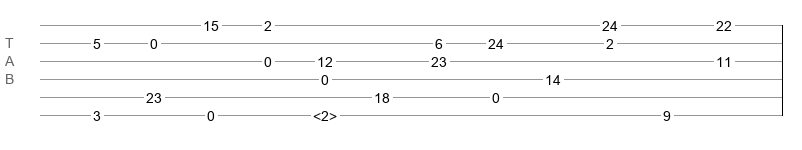0: (150, 36, 158, 46), (207, 108, 215, 118), (264, 54, 272, 64), (321, 72, 329, 82), (492, 90, 500, 100)
11: (716, 54, 732, 64)
12: (317, 54, 333, 64)
14: (545, 72, 561, 82)
15: (203, 18, 219, 28)
18: (374, 90, 390, 100)
2: (264, 18, 272, 28), (606, 36, 614, 46)
22: (716, 18, 732, 28)
23: (146, 90, 162, 100), (431, 54, 447, 64)
24: (488, 36, 504, 46), (602, 18, 618, 28)
3: (93, 108, 101, 118)
5: (93, 36, 101, 46)
6: (435, 36, 443, 46)
9: (663, 108, 671, 118)
harmonic: (313, 108, 337, 118)
